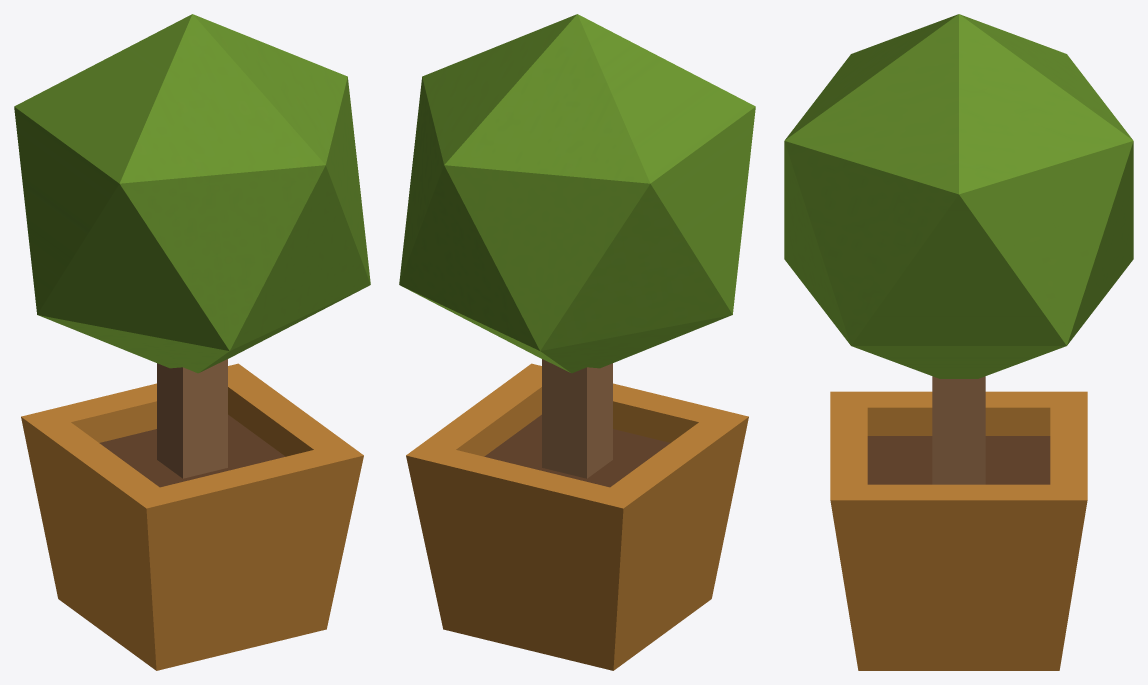
The model's file is Flower_01.fbx.
3 renders of one model, left to right at view 1: azimuth 30°, elevation 25°; view 2: azimuth 150°, elevation 25°; view 3: azimuth 270°, elevation 25°, orthographic. The views are drawn at different scales.
Visible parts, largest first — view 1: Flower_01; view 2: Flower_01; view 3: Flower_01.
Part boxes in pixels (x1,y1,x2,y2): Flower_01: [14, 14, 370, 670]; Flower_01: [399, 14, 755, 670]; Flower_01: [784, 14, 1133, 670].
Bounding box in the file's own units: 1.34 × 2.47 × 1.27.
